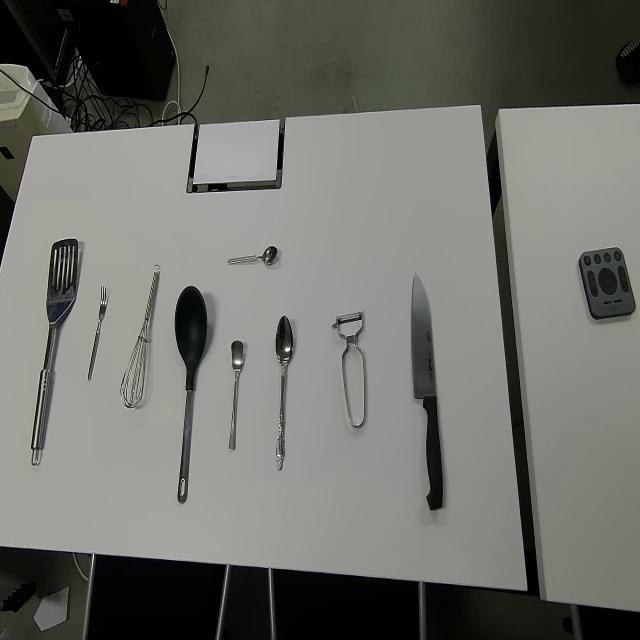Desert-Spoon: (274, 312, 294, 472)
Dinner-Fork: (86, 284, 107, 384)
Kitchen-Knife: (410, 269, 444, 512)
Peeler: (332, 307, 366, 429)
Serving-Spoon: (30, 236, 80, 468), (174, 281, 208, 504)
Tea-Spoon: (228, 338, 244, 449), (227, 243, 280, 265)
Whisk: (120, 261, 161, 409)
